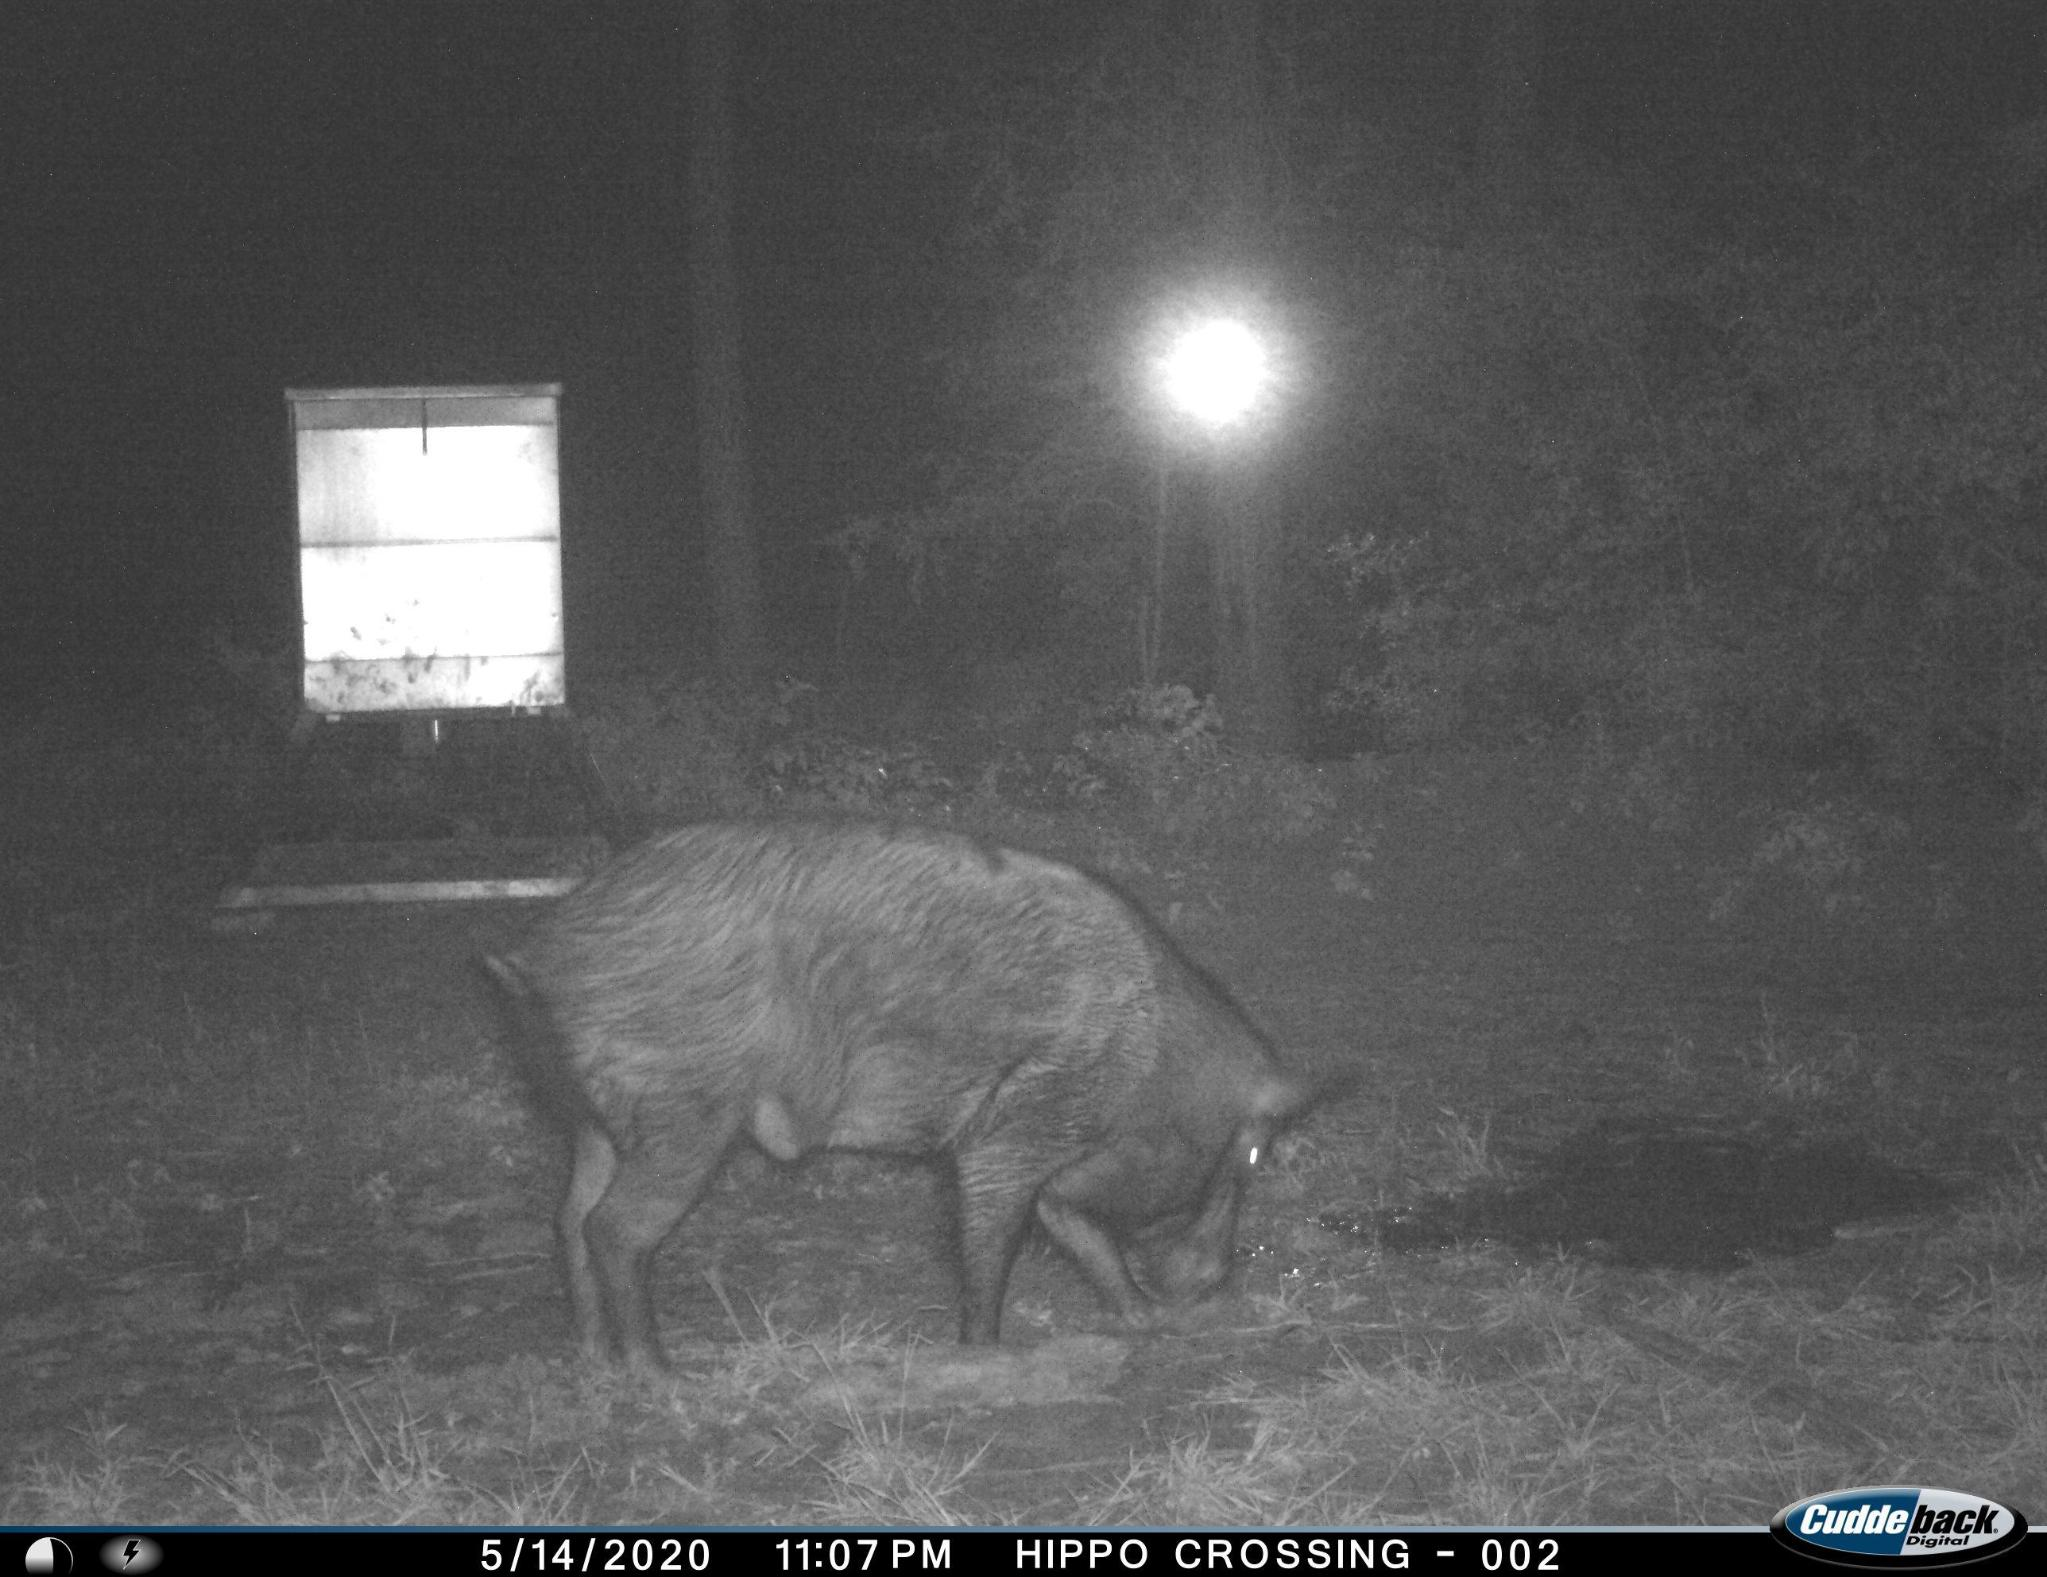Hog: (469, 802, 1368, 1365)
